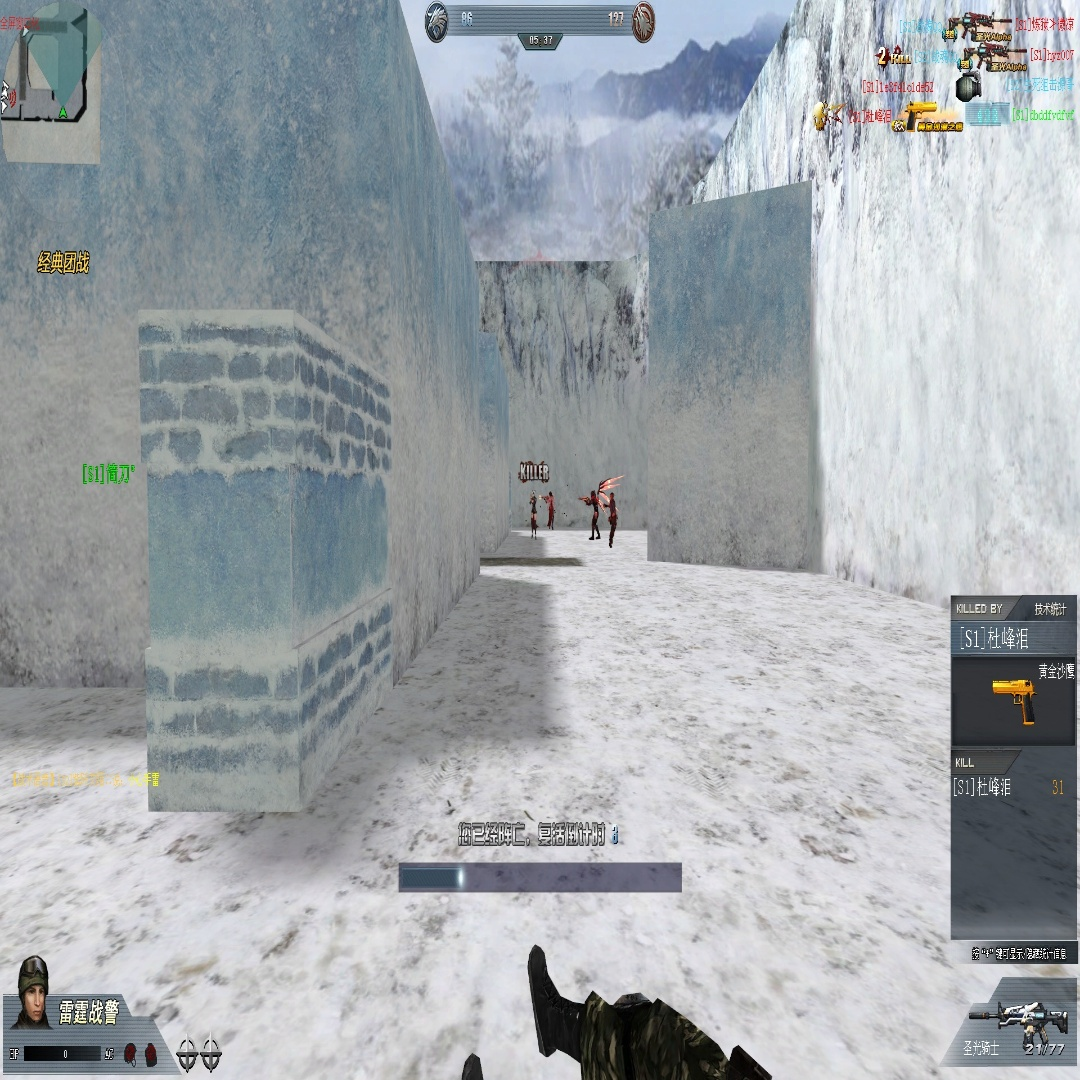t: (529, 494, 539, 538)
